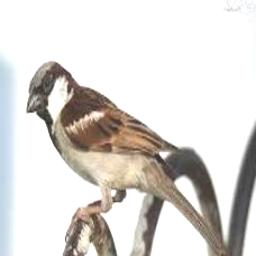Sparrow: (27, 61, 227, 256)
